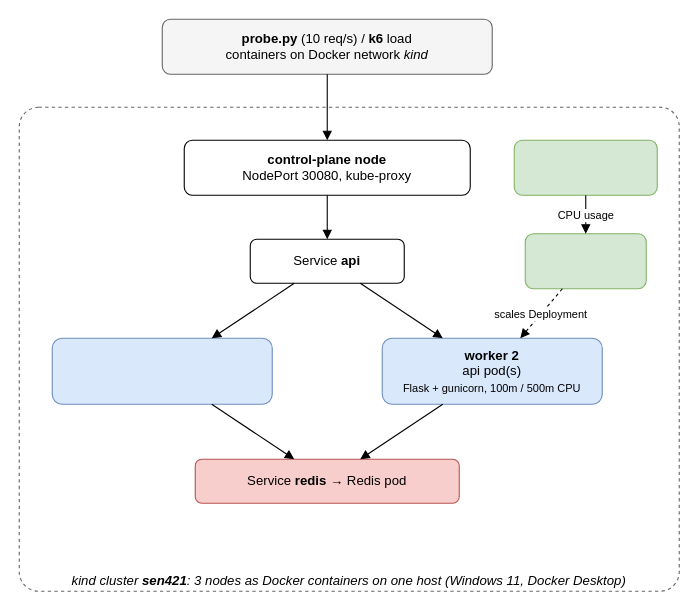
Image size: 699x611. Some labels were removed from this diagram. Here are the shapes that lost their labels. From the top down, the centre of each, then its label:
the point at 585,167: metrics-server
the point at 585,261: HPA target 50% / 80%
the point at 161,370: worker 1 api pod(s) Flask + gunicorn, 100m / 500m CPU
